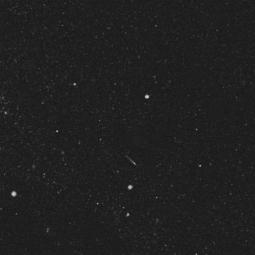soho: (101, 121, 158, 197)
